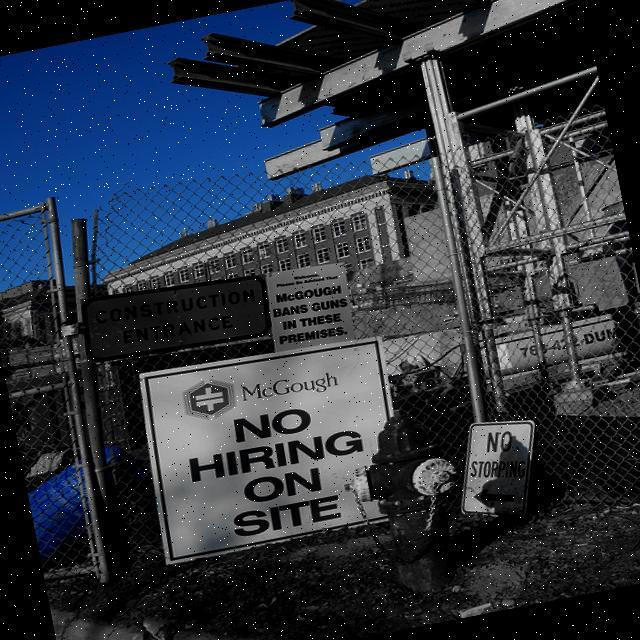fire_hydrant: (332, 403, 478, 610)
